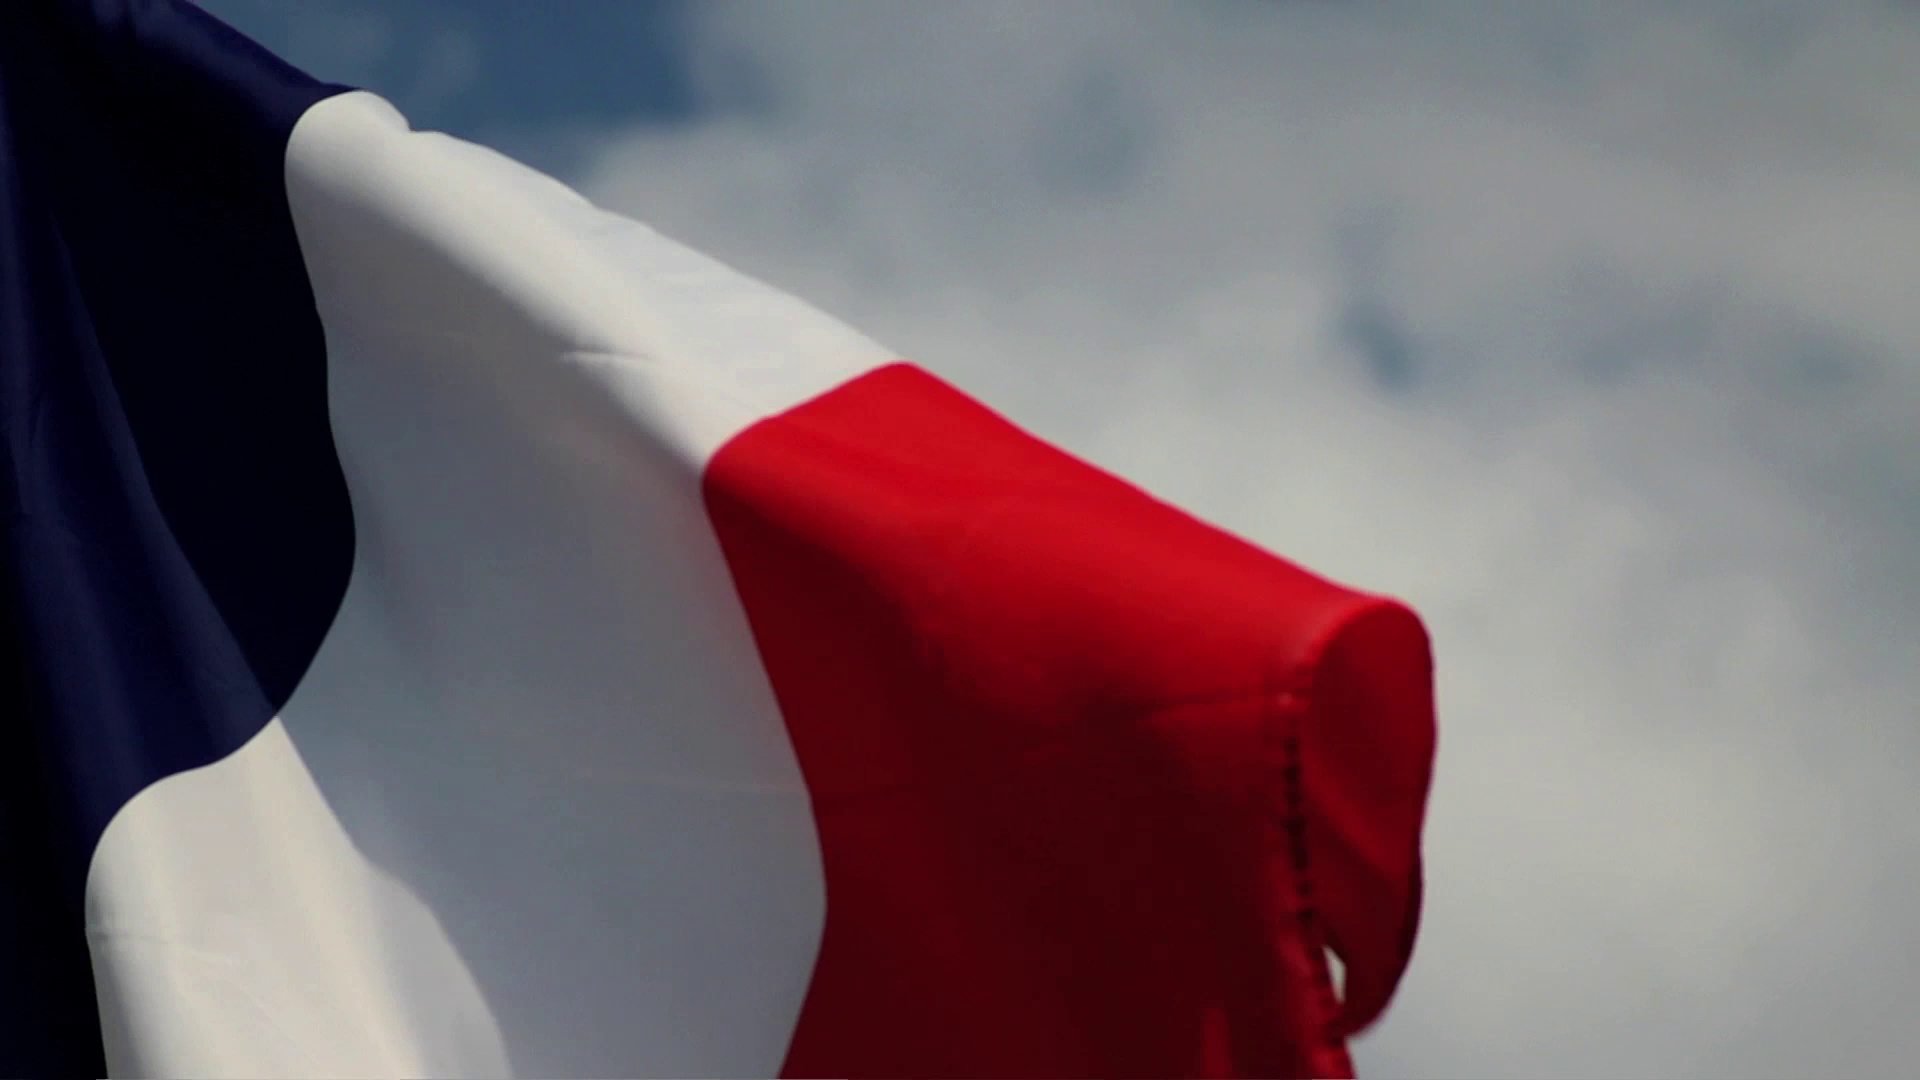French Flag: (1, 1, 1447, 1080)
